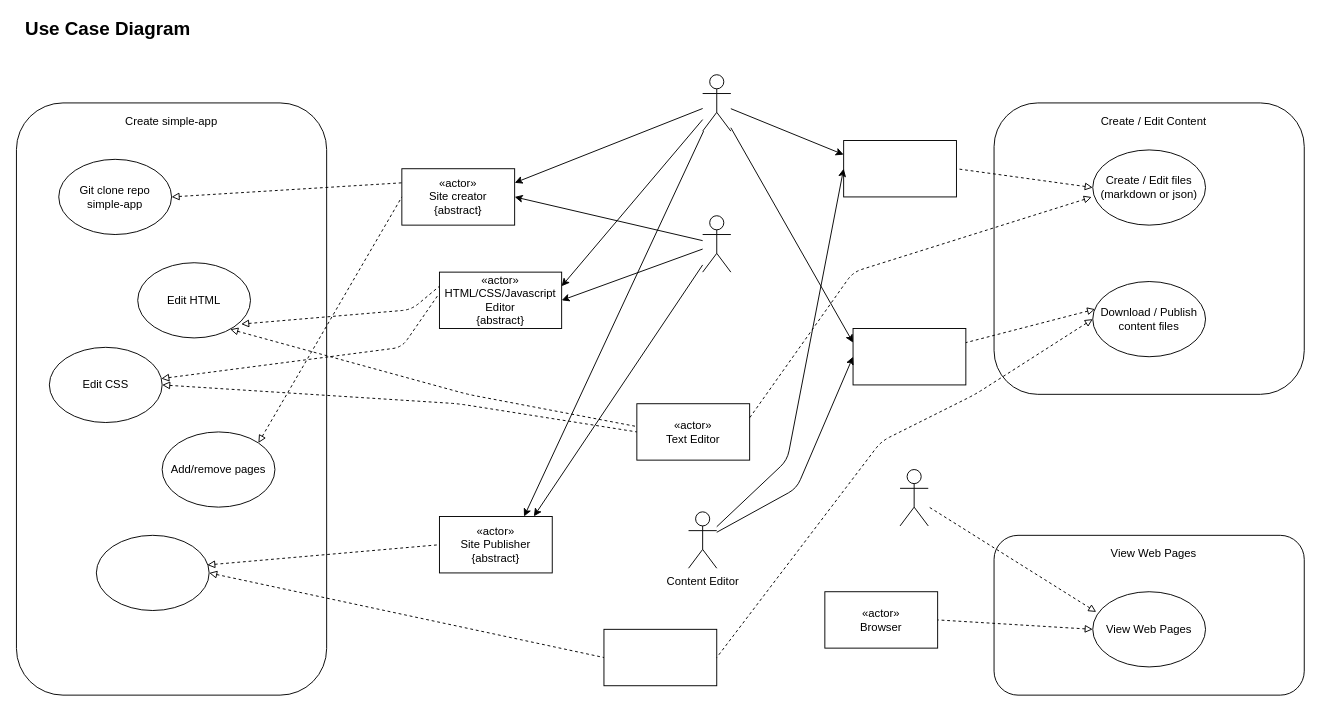
Some shapes in this 1321 by 712 pixel diagram are drawn without their labels. The box of each missing label's shape, as (x1, y1, x2, y2) in pixels:
DIY: (702, 74, 731, 131)
Final user: (899, 469, 928, 526)
Publish simple-app: (95, 534, 209, 611)
Site Builder / Web Master / Web Developer / Web Designer: (702, 215, 731, 272)
«actor» Create / Edit Content {abstract}: (843, 140, 956, 197)
«actor» Hosting: (603, 628, 717, 686)
«actor» Publish Content {abstract}: (852, 328, 966, 385)
